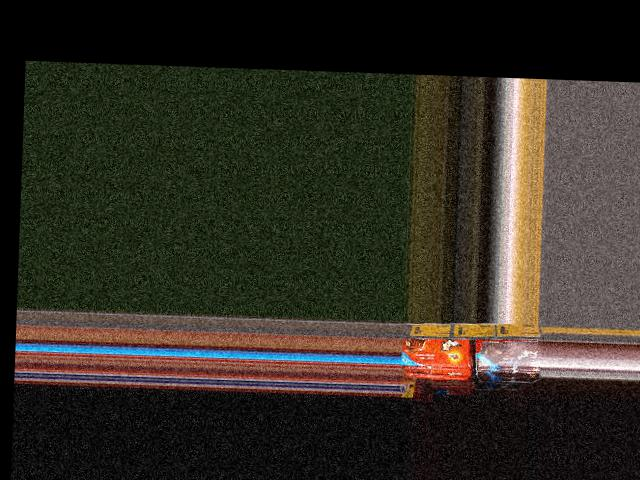chocolate: (481, 332, 543, 372)
